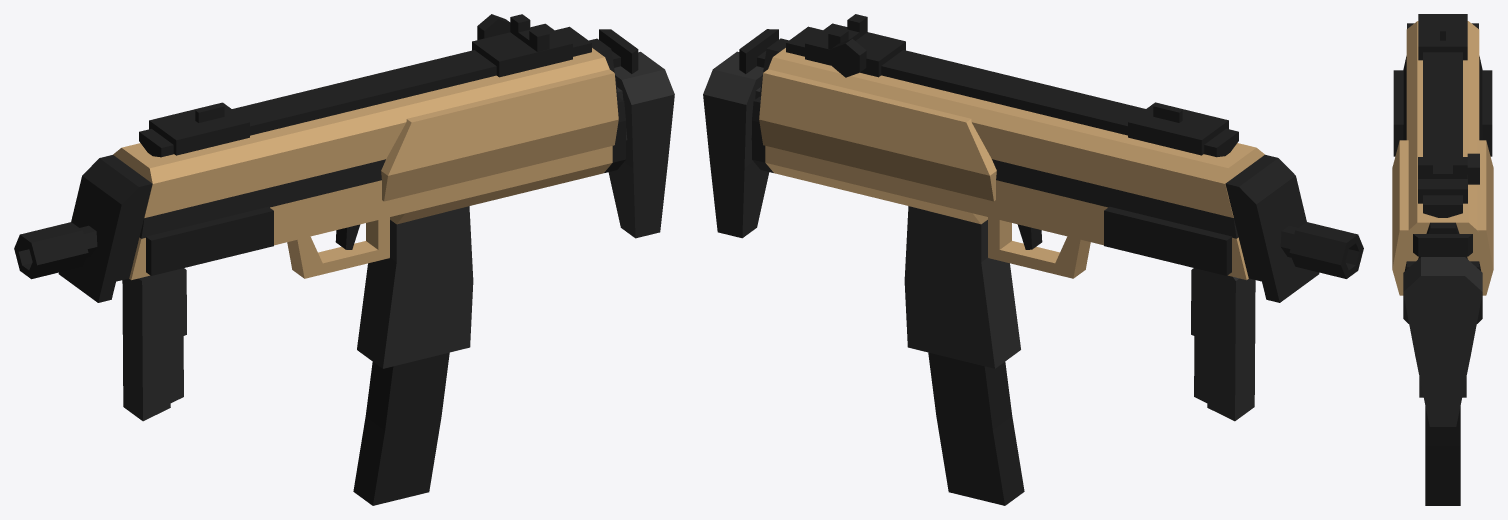
3 views of the same model, side by side, from view 1: azimuth 30°, elevation 25°; view 2: azimuth 150°, elevation 25°; view 3: azimuth 270°, elevation 25° (orthographic). The views are drawn at different scales.
Visible parts, largest first — view 1: main.001, module.002, magazine.003, rail.004, handle, stock.001, module.001, Cube.024, sight_rear.009, barrel.005, sight_front.009, trigger_guard.001 (+1 smaller); view 2: main.001, module.002, magazine.003, rail.004, handle, stock.001, module.001, Cube.024, sight_rear.009, barrel.005, sight_front.009, trigger_guard.001 (+1 smaller); view 3: stock.001, main.001, rail.004, module.002, magazine.003, sight_rear.009, sight_front.009, Cube.024, bolt.
Part boxes in pixels (x1=…): main.001: x1=113, y1=38, x2=625, y2=368; module.002: x1=381, y1=69, x2=618, y2=201; magazine.003: x1=353, y1=352, x2=449, y2=505; rail.004: x1=139, y1=26, x2=591, y2=157; handle: x1=122, y1=268, x2=186, y2=421; stock.001: x1=608, y1=51, x2=674, y2=238; module.001: x1=58, y1=155, x2=152, y2=302; Cube.024: x1=146, y1=206, x2=273, y2=275; sight_rear.009: x1=472, y1=14, x2=572, y2=77; barrel.005: x1=14, y1=222, x2=97, y2=279; sight_front.009: x1=149, y1=102, x2=249, y2=155; trigger_guard.001: x1=287, y1=217, x2=389, y2=278; main.001: x1=752, y1=38, x2=1264, y2=368; module.002: x1=759, y1=69, x2=996, y2=201; magazine.003: x1=928, y1=352, x2=1024, y2=505; rail.004: x1=786, y1=26, x2=1238, y2=157; handle: x1=1191, y1=268, x2=1255, y2=421; stock.001: x1=703, y1=51, x2=769, y2=238; module.001: x1=1225, y1=154, x2=1319, y2=302; Cube.024: x1=1104, y1=206, x2=1232, y2=275; sight_rear.009: x1=805, y1=14, x2=905, y2=77; barrel.005: x1=1280, y1=222, x2=1363, y2=278; sight_front.009: x1=1128, y1=102, x2=1228, y2=155; trigger_guard.001: x1=988, y1=217, x2=1090, y2=278; stock.001: x1=1403, y1=257, x2=1482, y2=426; main.001: x1=1403, y1=21, x2=1482, y2=397; rail.004: x1=1423, y1=52, x2=1462, y2=217; module.002: x1=1392, y1=140, x2=1493, y2=295; magazine.003: x1=1425, y1=406, x2=1460, y2=505; sight_rear.009: x1=1418, y1=153, x2=1479, y2=203; sight_front.009: x1=1418, y1=14, x2=1467, y2=60; Cube.024: x1=1393, y1=70, x2=1492, y2=156; bolt: x1=1413, y1=234, x2=1472, y2=256.
Bounding box in the file's own units: 66.11 × 429 × 283.
